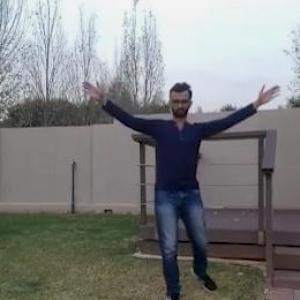takeoff: (82, 88, 281, 299)
